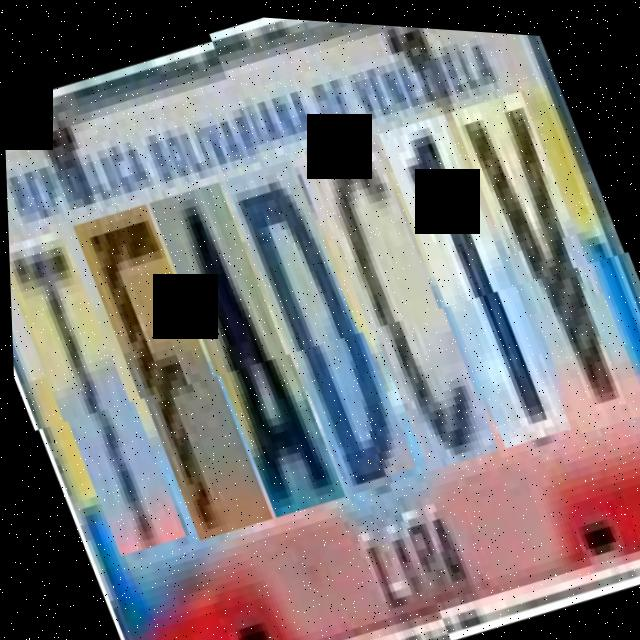1: (384, 110, 572, 452)
A: (150, 174, 343, 518)
C: (304, 126, 499, 477)
D: (224, 152, 416, 495)
F: (74, 197, 270, 542)
T: (7, 224, 183, 558)
V: (457, 86, 640, 437)
